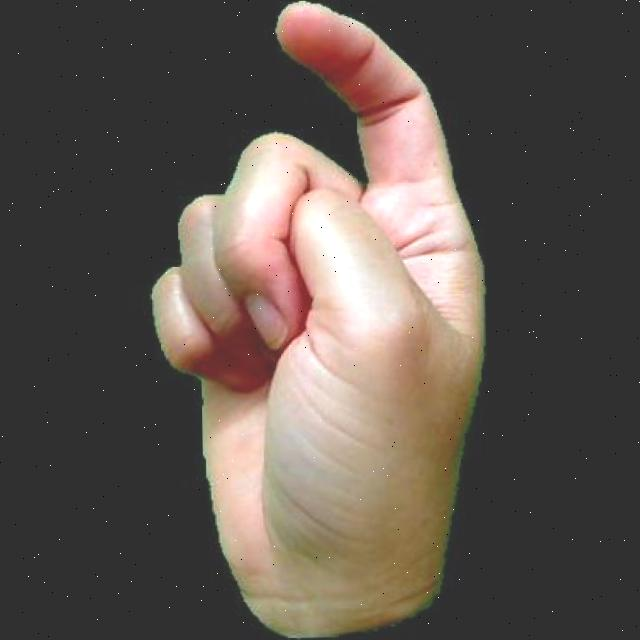x: (119, 0, 501, 640)
